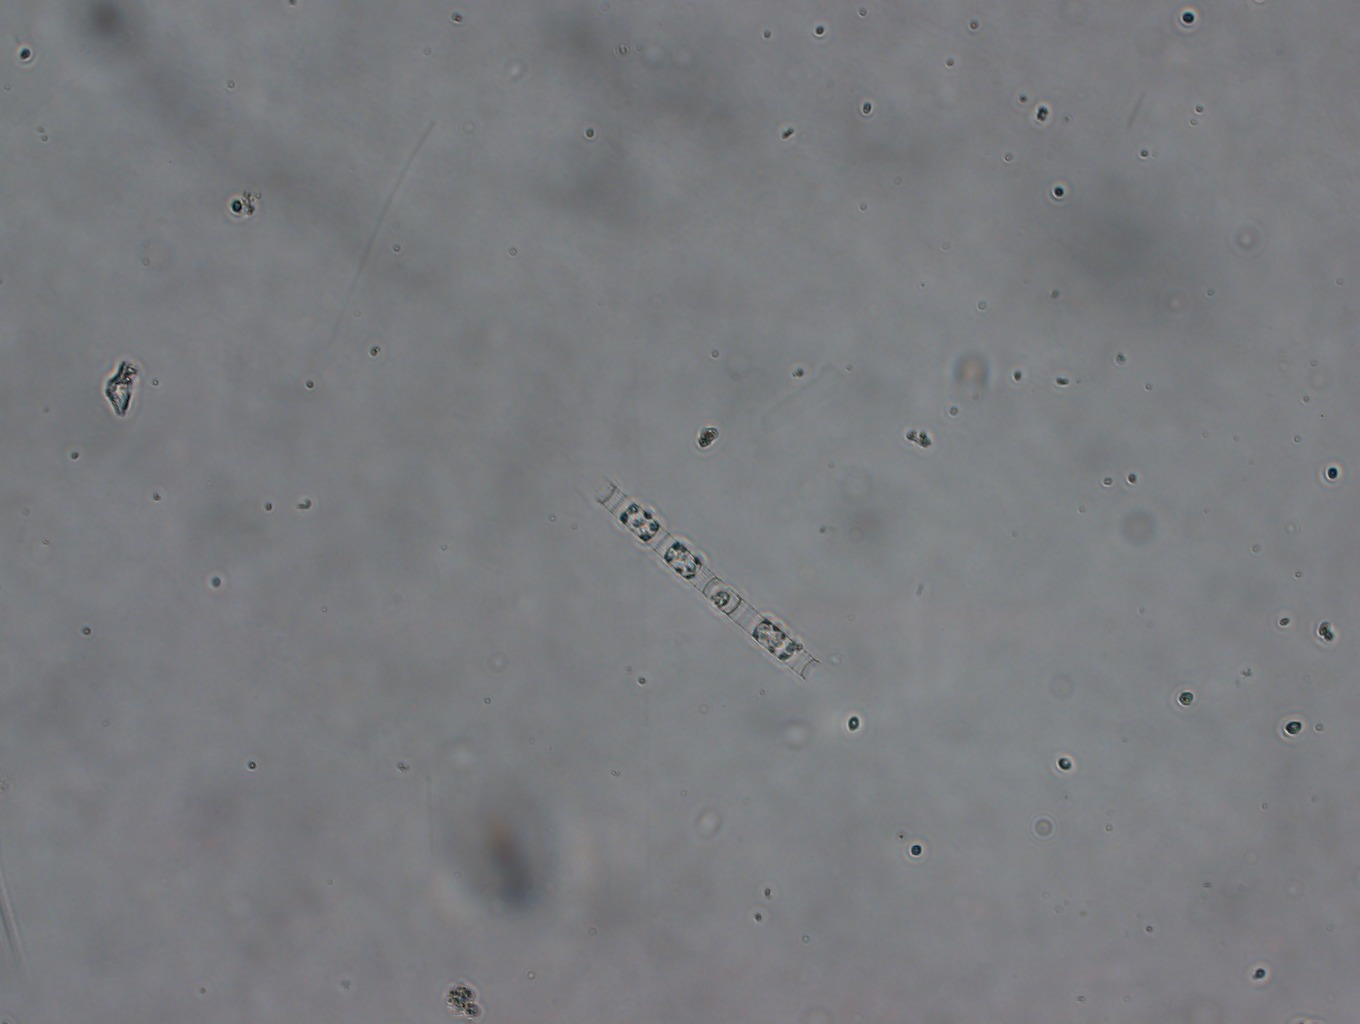skeletonema: (584, 469, 828, 698)
